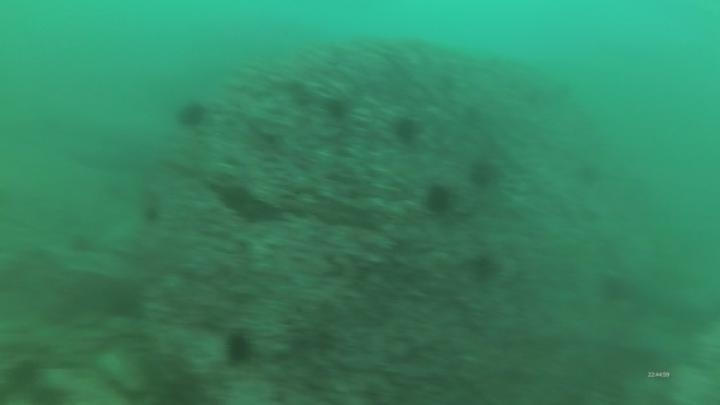echinus: (101, 279, 148, 323), (221, 328, 257, 368), (595, 271, 635, 307), (421, 181, 456, 217), (466, 156, 502, 191), (570, 156, 606, 191), (389, 113, 424, 147), (174, 98, 210, 131), (467, 251, 502, 284), (321, 94, 353, 123), (138, 200, 164, 227)
